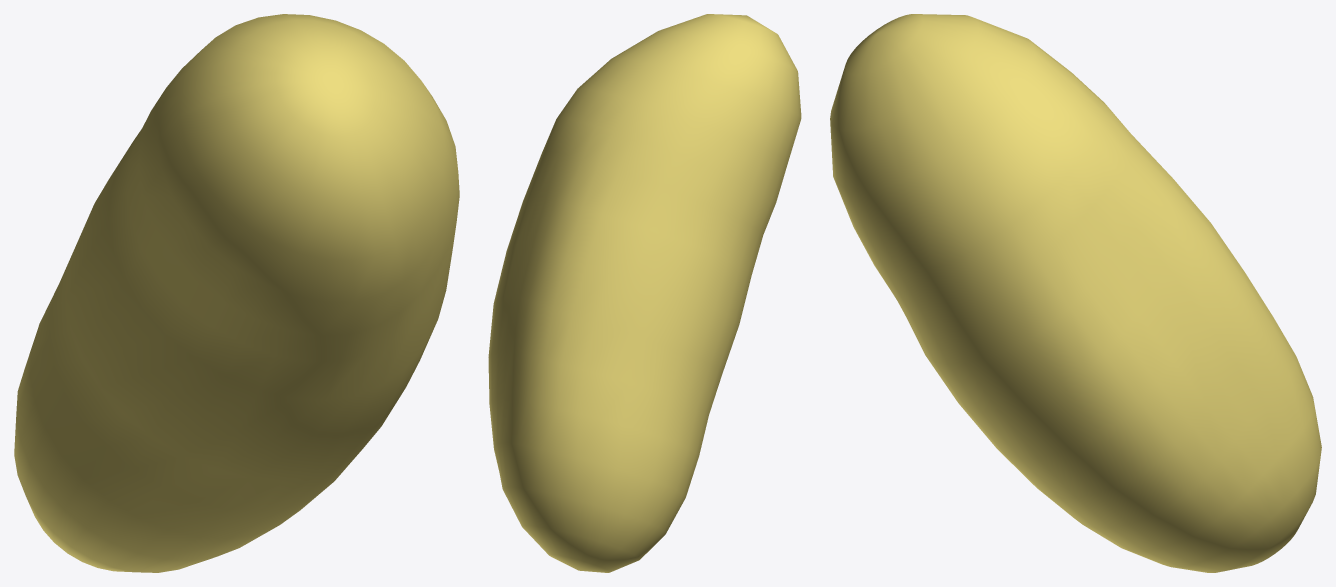
Rendered from pyramid-of-medulla-oblongata-l.glb.
The picture shows the model from 3 angles, left to right: view 1: azimuth 30°, elevation 25°; view 2: azimuth 150°, elevation 25°; view 3: azimuth 270°, elevation 25°; orthographic projection. The views are drawn at different scales.
Visible parts, largest first — view 1: Pyramid of medulla oblongata.l; view 2: Pyramid of medulla oblongata.l; view 3: Pyramid of medulla oblongata.l.
Boxes of the visible parts, left/top/right/bottom form: Pyramid of medulla oblongata.l: left=14, top=14, right=459, bottom=572; Pyramid of medulla oblongata.l: left=488, top=14, right=801, bottom=572; Pyramid of medulla oblongata.l: left=830, top=14, right=1321, bottom=572.
Bounding box in the file's own units: 0.00673 × 0.0134 × 0.011.
